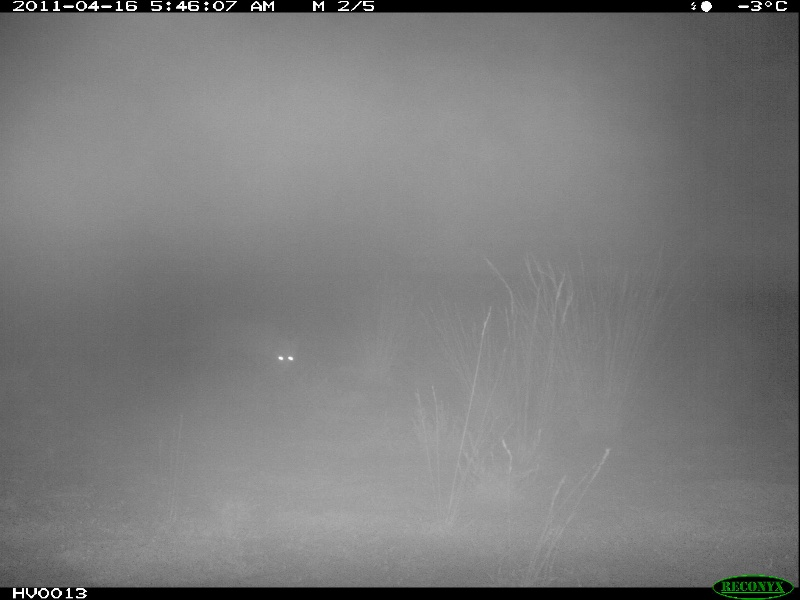fox: (185, 313, 303, 377)
